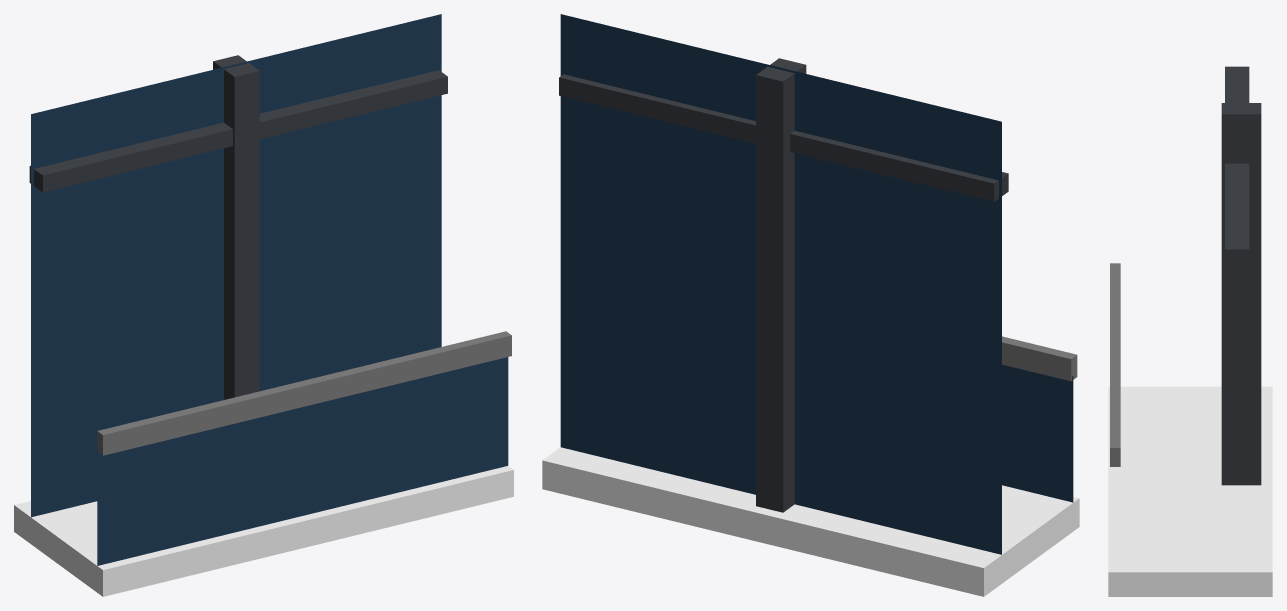
File: mid-w1.fbx
3 views of the same model, side by side, from view 1: azimuth 30°, elevation 25°; view 2: azimuth 150°, elevation 25°; view 3: azimuth 270°, elevation 25° (orthographic). The views are drawn at different scales.
Parts seen in each view (by area): view 1: M_Wall.002; view 2: M_Wall.002; view 3: M_Wall.002.
Part boxes in pixels (<box>): M_Wall.002: <box>14,14,513,596</box>; M_Wall.002: <box>542,14,1079,596</box>; M_Wall.002: <box>1108,66,1272,596</box>.
Bounding box in the file's own units: 4 × 4 × 1.5.
